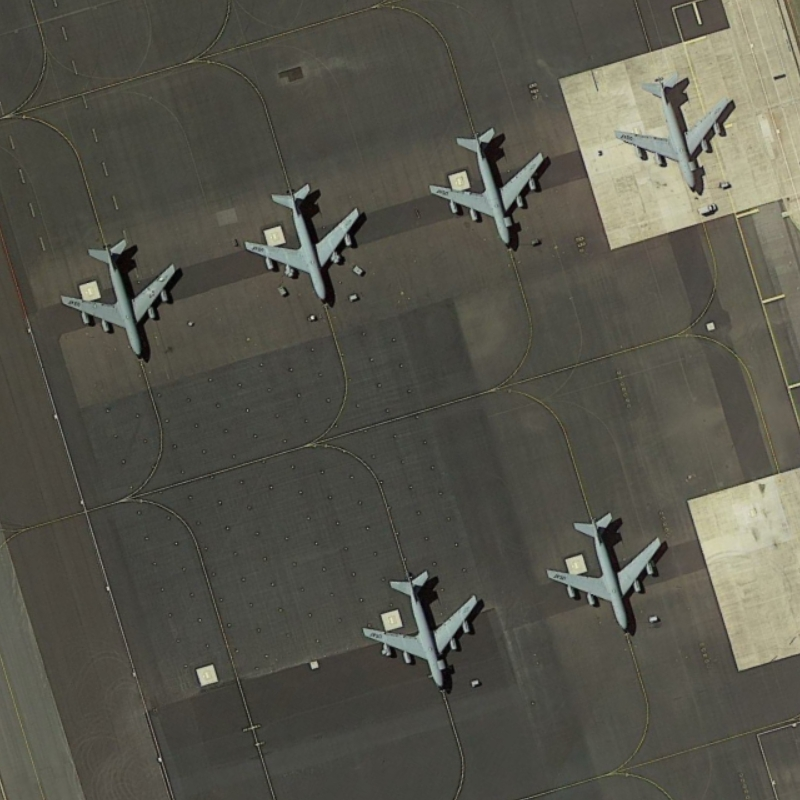A14: (56, 232, 182, 366), (359, 566, 486, 694), (423, 124, 546, 254), (542, 508, 666, 636), (241, 179, 364, 307), (615, 69, 734, 196)
